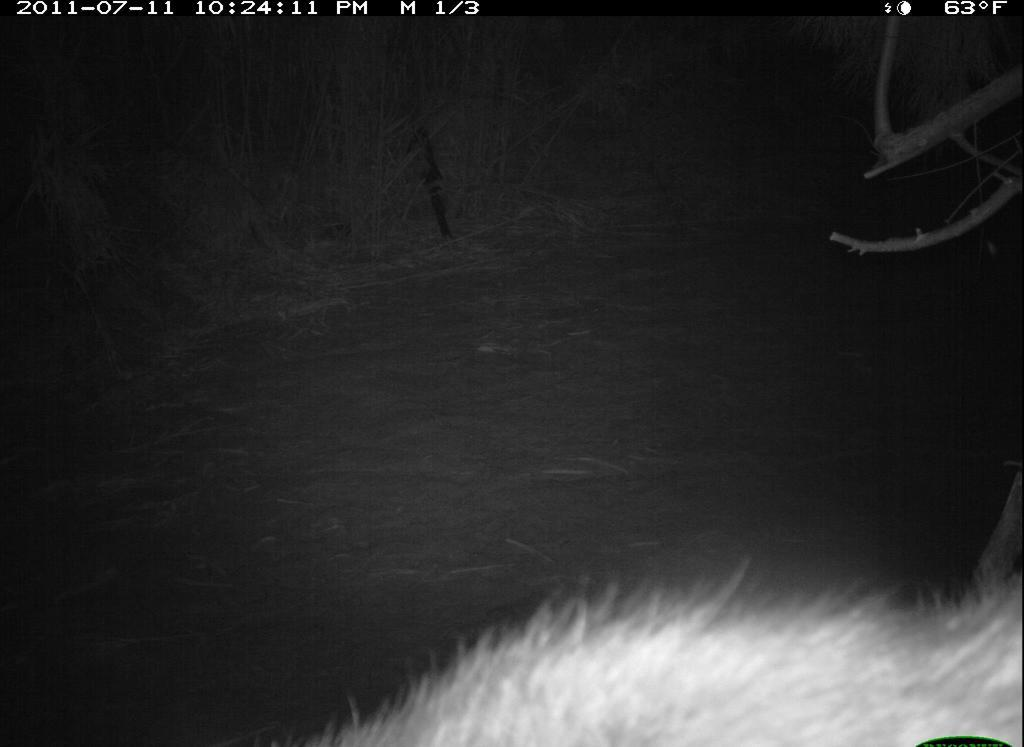raccoon: (258, 556, 1023, 747)
